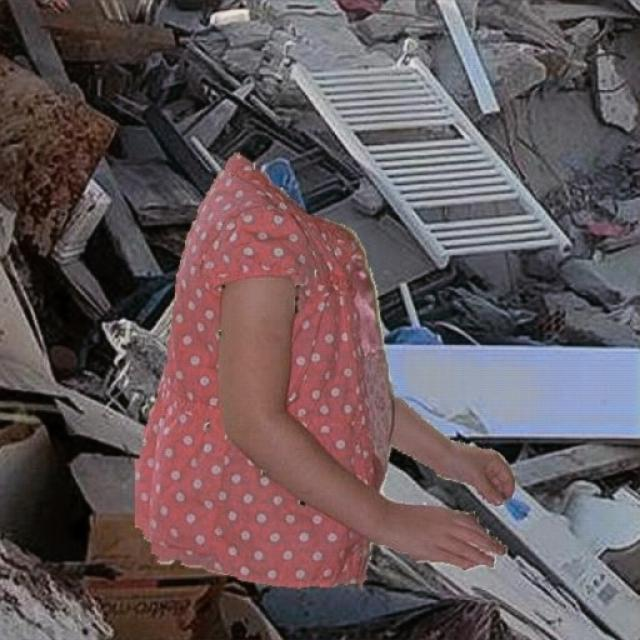Person in Rubble: (135, 152, 514, 588)
